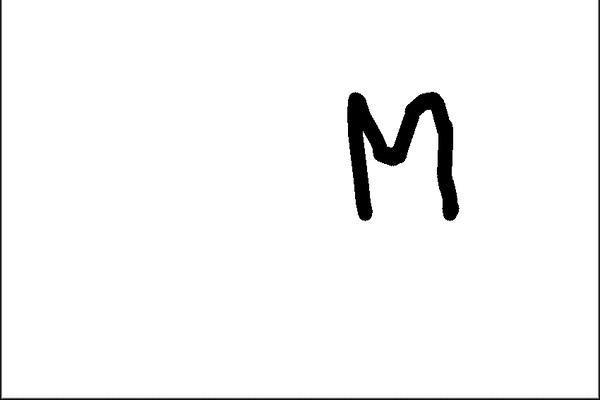M: (340, 83, 462, 229)
